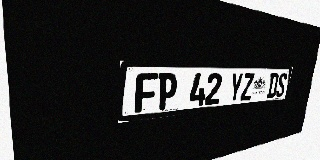2: (205, 73, 222, 105)
4: (189, 73, 208, 107)
D: (266, 73, 279, 98)
F: (135, 73, 158, 113)
P: (157, 73, 178, 110)
S: (275, 73, 288, 97)
Y: (228, 73, 244, 102)
Z: (240, 73, 255, 101)
